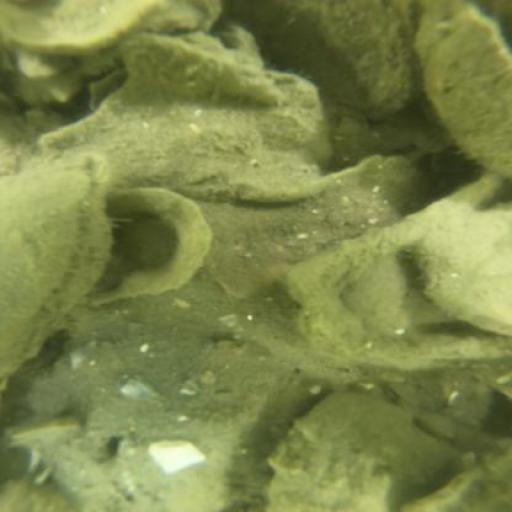Oyster-Closed: (30, 319, 280, 512), (39, 76, 328, 201), (212, 153, 430, 294), (266, 396, 449, 512), (230, 2, 415, 116), (425, 9, 511, 173), (418, 207, 512, 335), (112, 422, 237, 512), (125, 35, 285, 105), (11, 2, 222, 49), (401, 446, 511, 511)
Oyster-Open: (4, 159, 112, 379)
